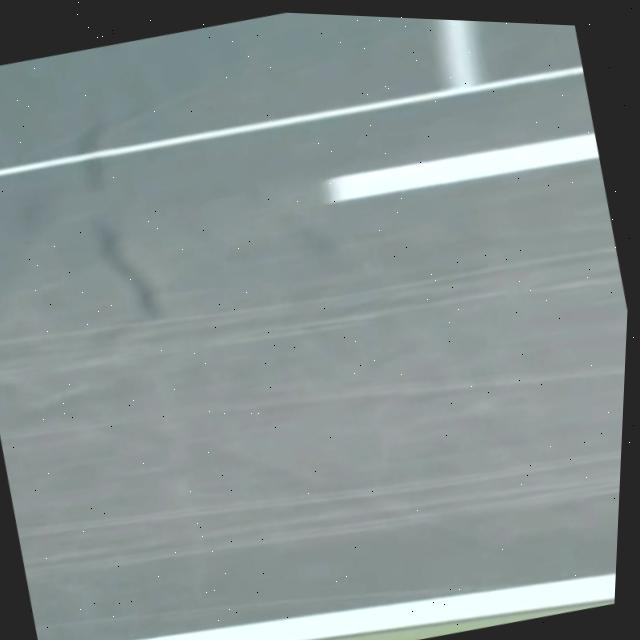center: (324, 131, 599, 201)
right: (126, 572, 616, 640)
